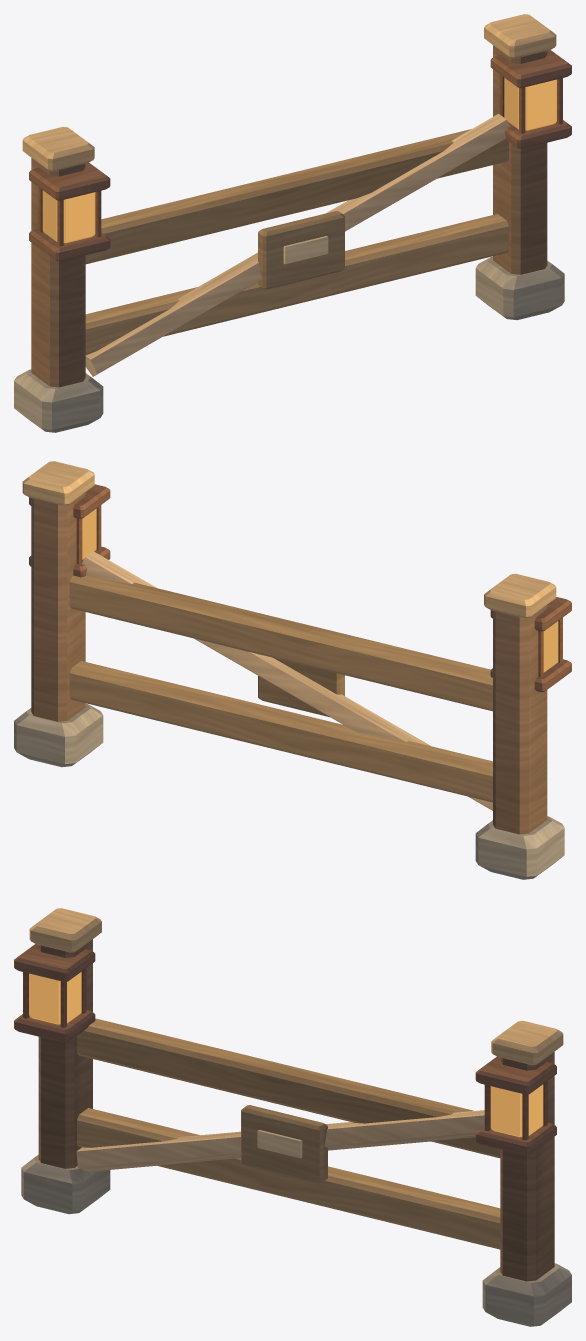
The model's file is frontier_gate.glb.
The picture shows the model from 3 angles, top to bottom: view 1: azimuth 30°, elevation 25°; view 2: azimuth 150°, elevation 25°; view 3: azimuth 330°, elevation 25°; orthographic projection.
Parts seen in each view (by area): view 1: Wegschranke; view 2: Wegschranke; view 3: Wegschranke.
Boxes of the visible parts, <box> form: Wegschranke: <box>14,14,571,432</box>; Wegschranke: <box>14,461,571,879</box>; Wegschranke: <box>14,908,571,1326</box>.
Bounding box in the file's own units: 3.24 × 1.65 × 0.465.
Materials: 2 (1 with a texture image).
